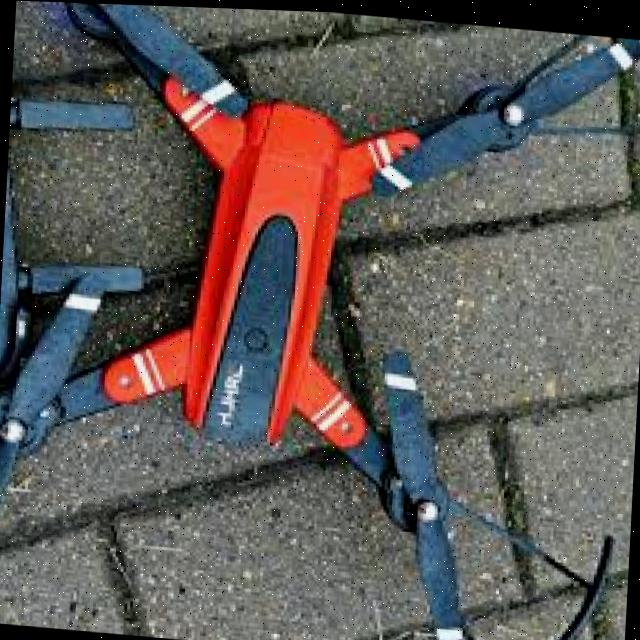drone: (0, 0, 616, 626)
